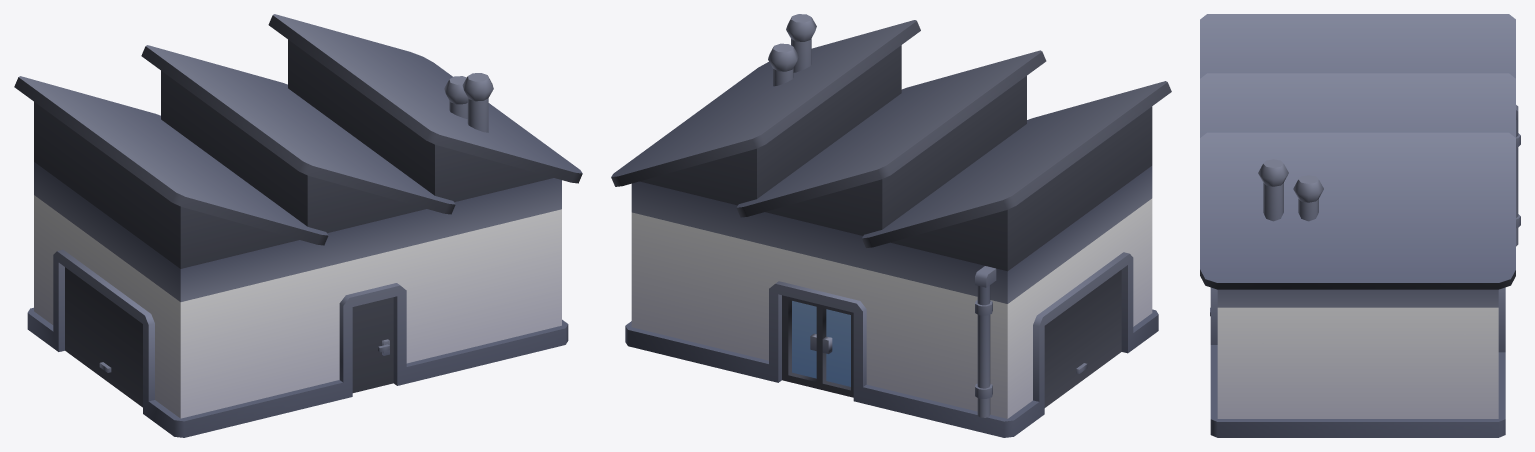
The model's file is building-k.fbx.
The picture shows the model from 3 angles, left to right: view 1: azimuth 30°, elevation 25°; view 2: azimuth 150°, elevation 25°; view 3: azimuth 270°, elevation 25°; orthographic projection. The views are drawn at different scales.
Parts seen in each view (by area): view 1: building-k; view 2: building-k; view 3: building-k.
Part boxes in pixels (x1,y1,x2,y2): building-k: (14,14,582,437); building-k: (611,14,1171,437); building-k: (1200,14,1520,437).
Bounding box in the file's own units: 130 × 77.27 × 91.36.
1 material, 1 textured.
